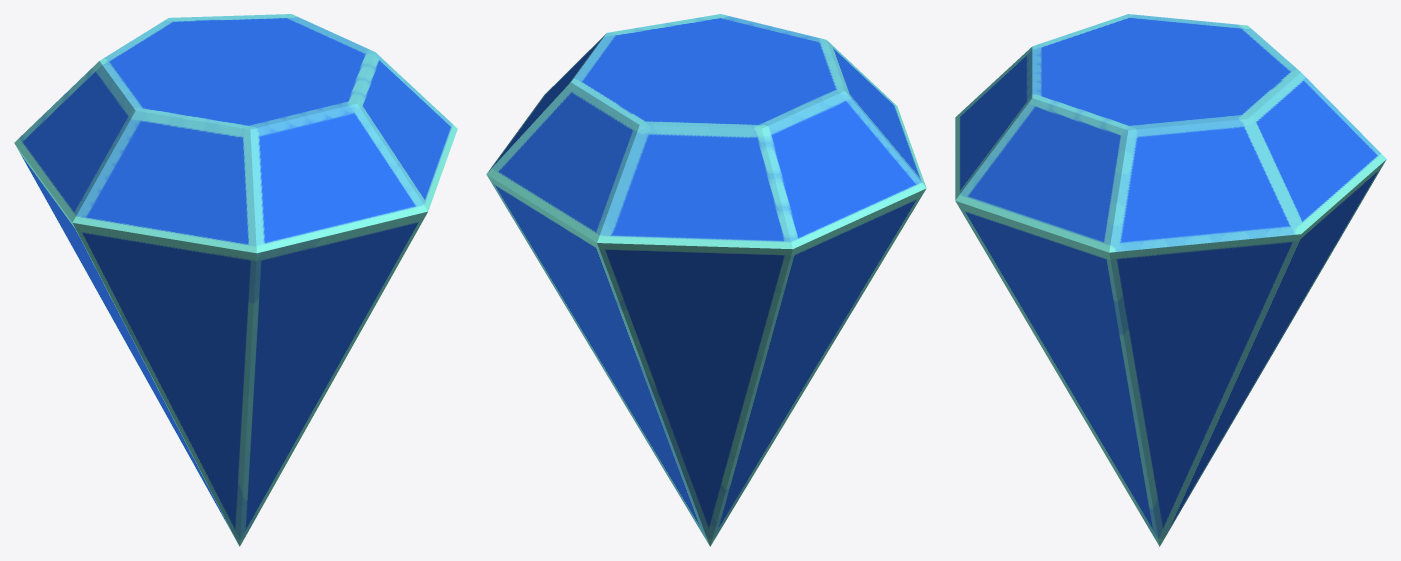
Rendered from Gem.fbx.
3 renders of one model, left to right at view 1: azimuth 30°, elevation 25°; view 2: azimuth 150°, elevation 25°; view 3: azimuth 270°, elevation 25°, orthographic.
Visible parts, largest first — view 1: Cone; view 2: Cone; view 3: Cone.
Boxes of the visible parts, box(x1,y1,x2,y2) form: Cone: box(14, 14, 457, 546); Cone: box(486, 14, 926, 546); Cone: box(955, 14, 1386, 546).
Bounding box in the file's own units: 135 × 160 × 132.
